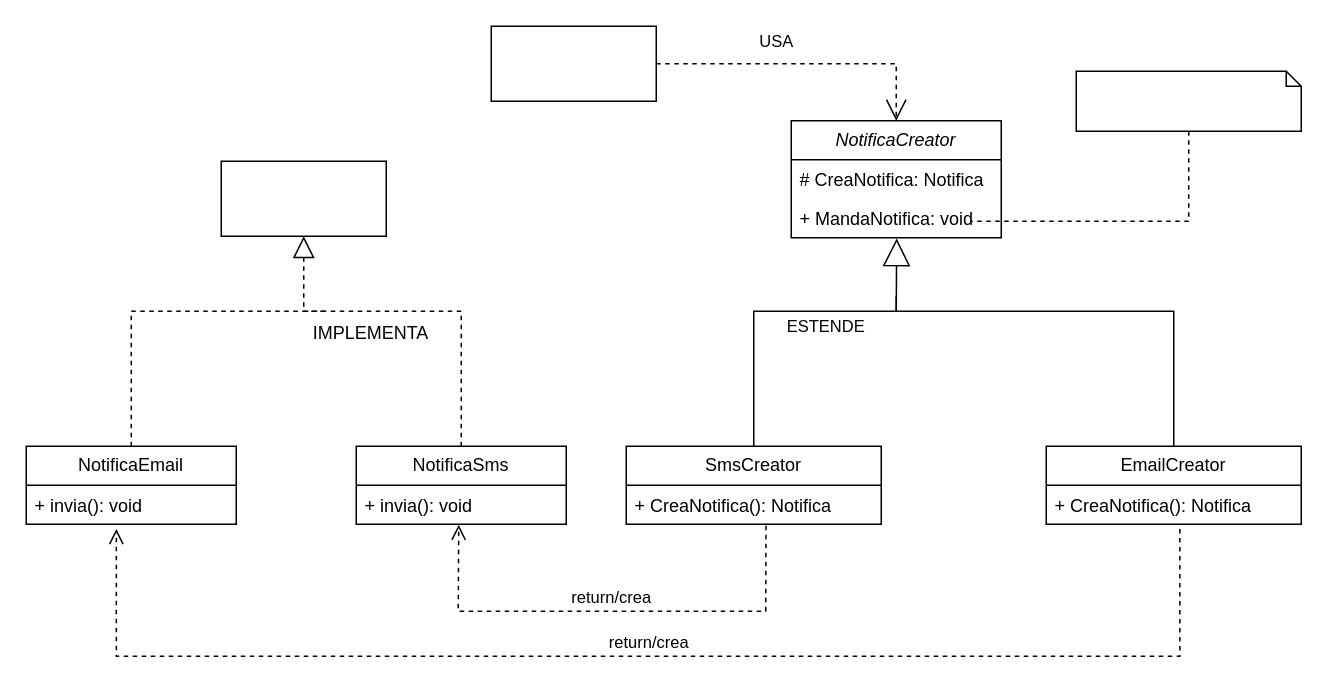
Image size: 1328x698. Some labels were removed from this diagram. Each missing label, with the centre of its shape:
"CLIENT" goes at (573,63).
"Notifica n = creaNotifica()" goes at (1188,100).
"«interface» Notifica" goes at (303,198).
